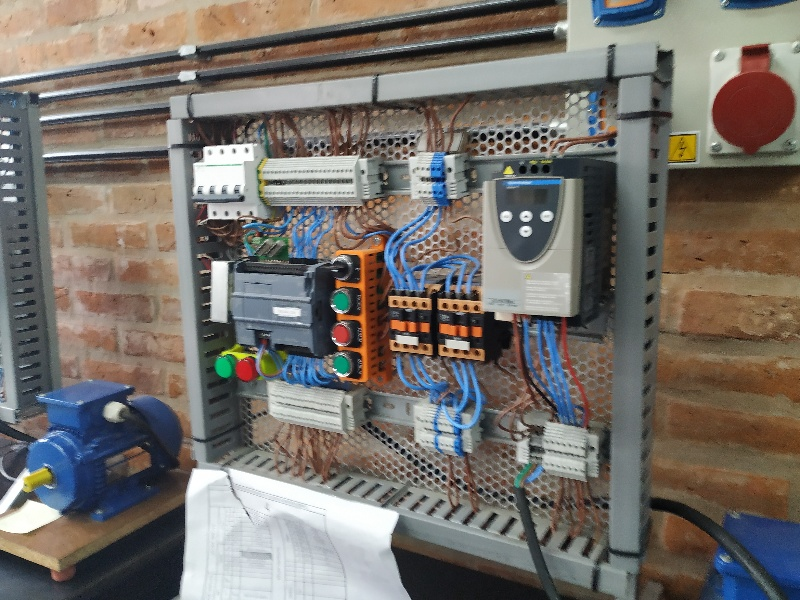Tablero 4: (177, 80, 631, 527)
